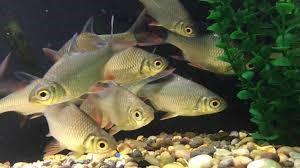Silver Barb: (29, 34, 105, 105), (42, 103, 121, 162), (163, 28, 258, 77), (137, 76, 228, 120), (90, 84, 159, 131), (137, 0, 196, 36), (113, 46, 169, 80)
